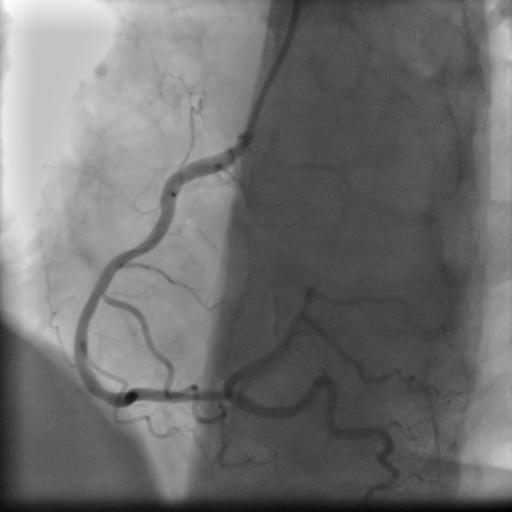Stenosis: (163, 378, 229, 409)
